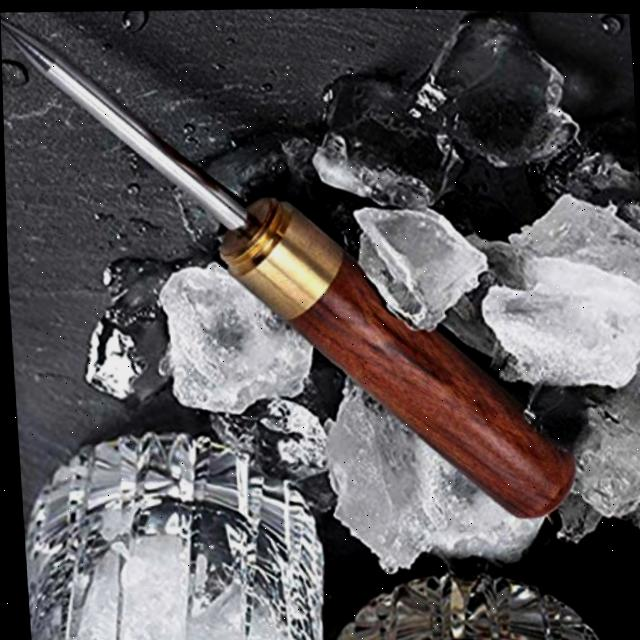ice pick: (0, 0, 572, 530)
